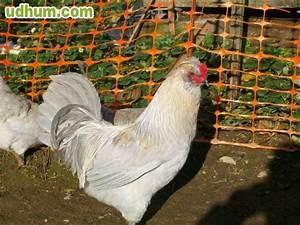hen: (47, 53, 209, 224)
